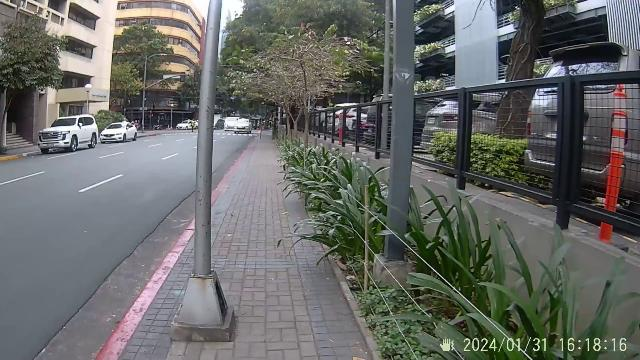lamp_post: (170, 0, 240, 348)
utility_post: (387, 0, 417, 290)
